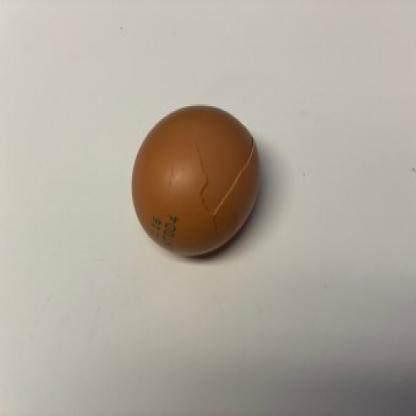egg: (135, 100, 263, 254)
